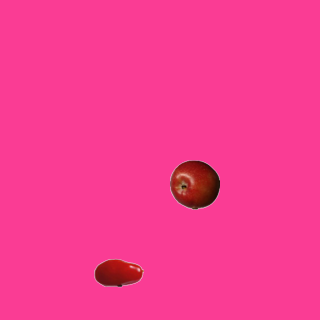Apple Braeburn: (169, 159, 219, 209)
Tomato 2: (93, 247, 143, 297)
